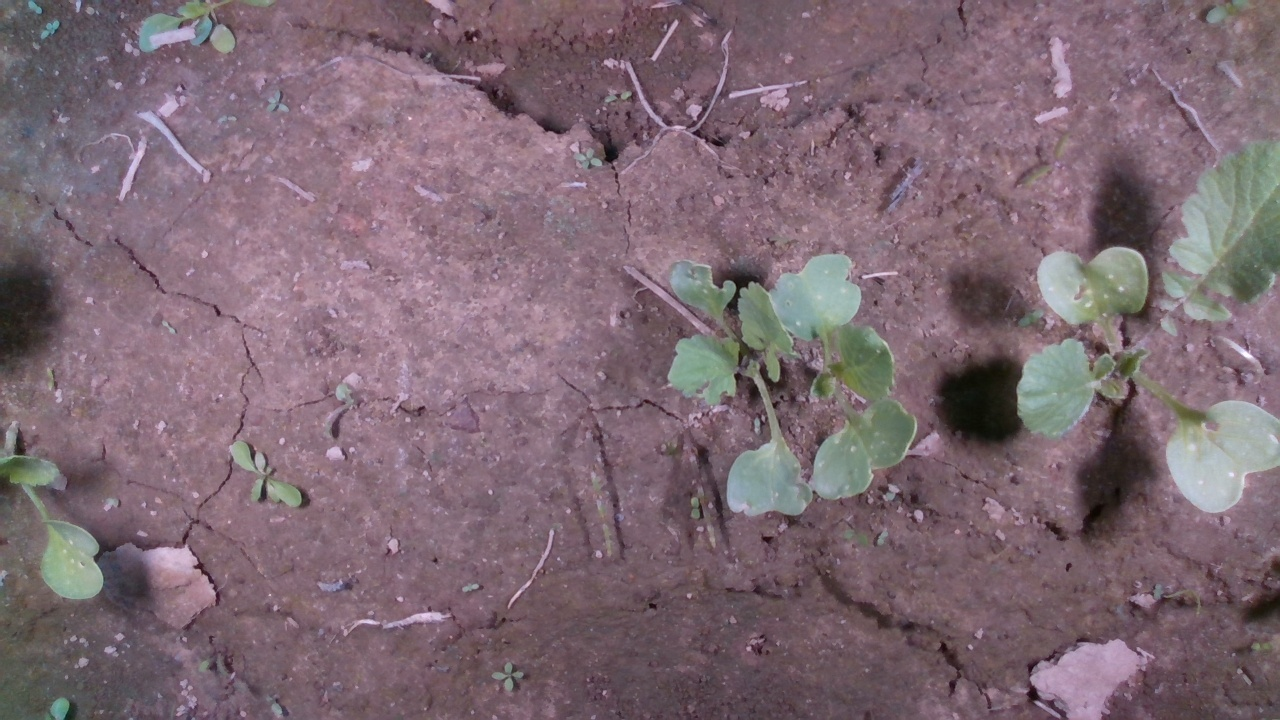weed: (226, 440, 303, 507), (490, 660, 525, 692), (570, 145, 604, 170), (264, 87, 291, 114), (39, 18, 60, 39), (159, 319, 178, 335), (44, 367, 55, 394), (690, 495, 701, 521), (461, 581, 480, 593)
